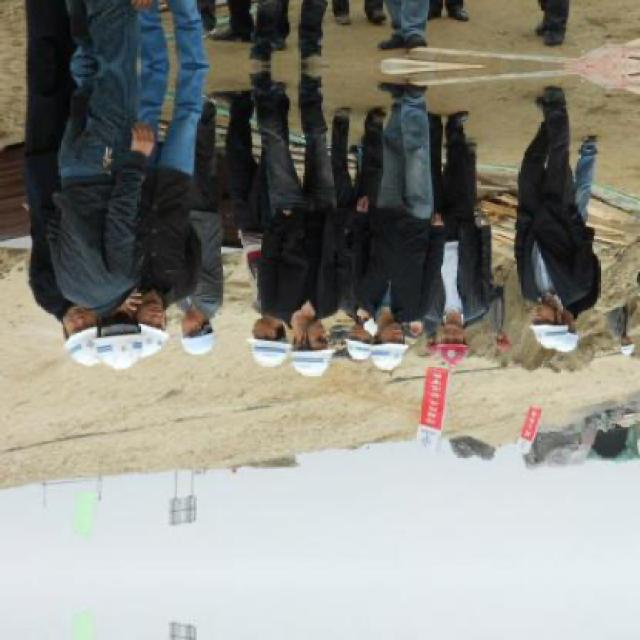con casco: (272, 310, 380, 392), (55, 297, 151, 383), (224, 310, 311, 394), (510, 306, 597, 366), (318, 330, 416, 383), (97, 295, 166, 356)
